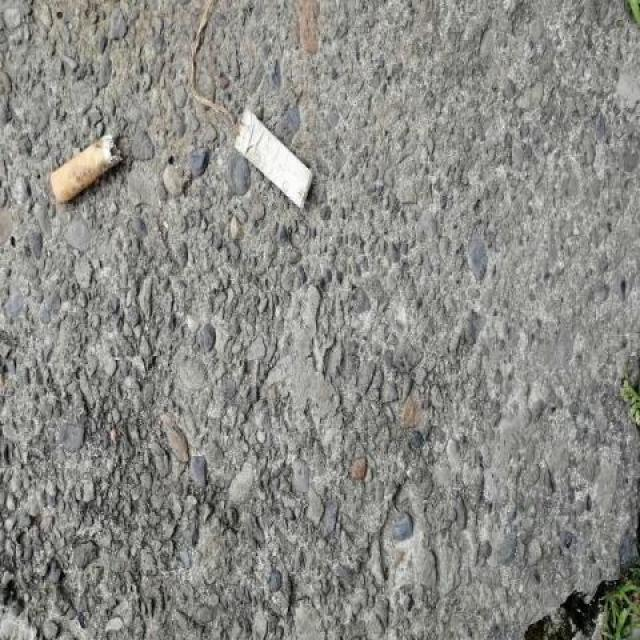non-organic waste: (230, 102, 318, 214), (47, 128, 125, 208)
